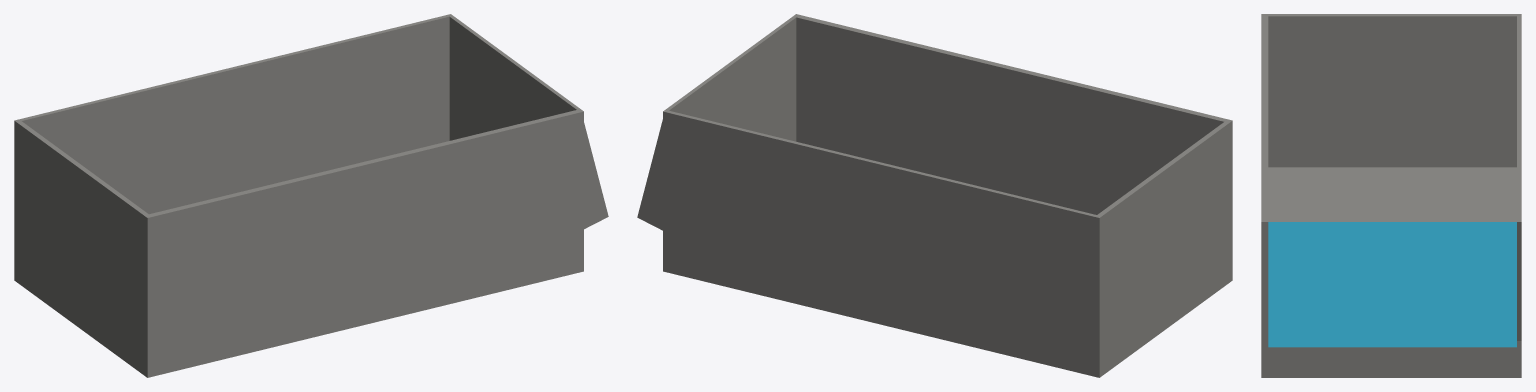
The model's file is Drawer.fbx.
3 renders of one model, left to right at view 1: azimuth 30°, elevation 25°; view 2: azimuth 150°, elevation 25°; view 3: azimuth 270°, elevation 25°, orthographic. The views are drawn at different scales.
Parts seen in each view (by area): view 1: Cube; view 2: Cube; view 3: Cube.
Part boxes in pixels (<box>): Cube: <box>14,14,608,377</box>; Cube: <box>637,14,1232,377</box>; Cube: <box>1261,14,1521,377</box>.
Size of the model in its own units: 29.8 by 9.8 by 14.8.
